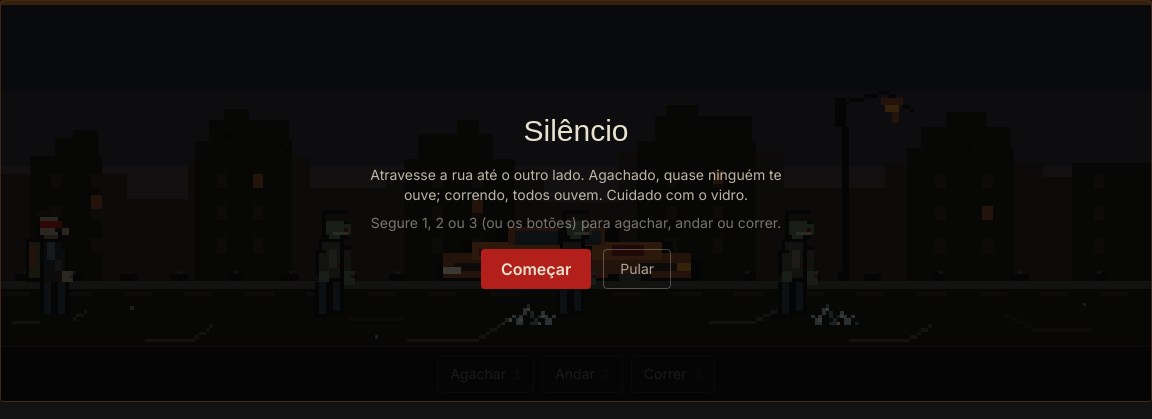
Test: StealthGame › can be skipped
Click the button "Pular".
click(637, 269)  # box [603,249,671,289]
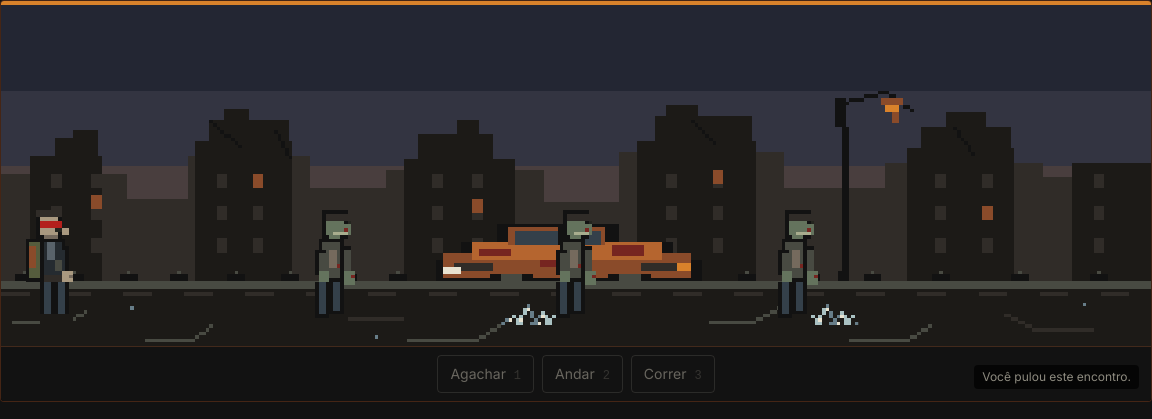
Result: the button "Começar" is gone
Result: the text "Você pulou este encontro." is shown at [974,365,1139,389]
